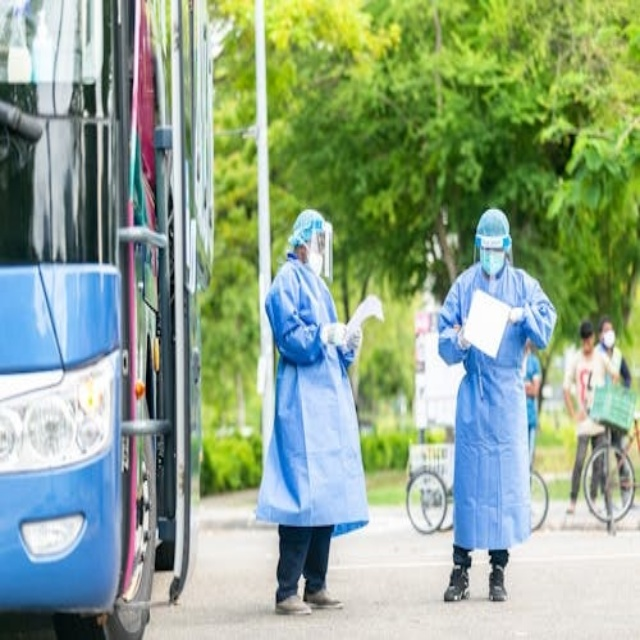Guantes: (322, 322, 347, 347), (344, 324, 362, 354), (457, 326, 471, 350), (508, 306, 525, 325)
Mascara: (480, 248, 505, 276), (306, 249, 323, 278), (602, 330, 615, 348)
